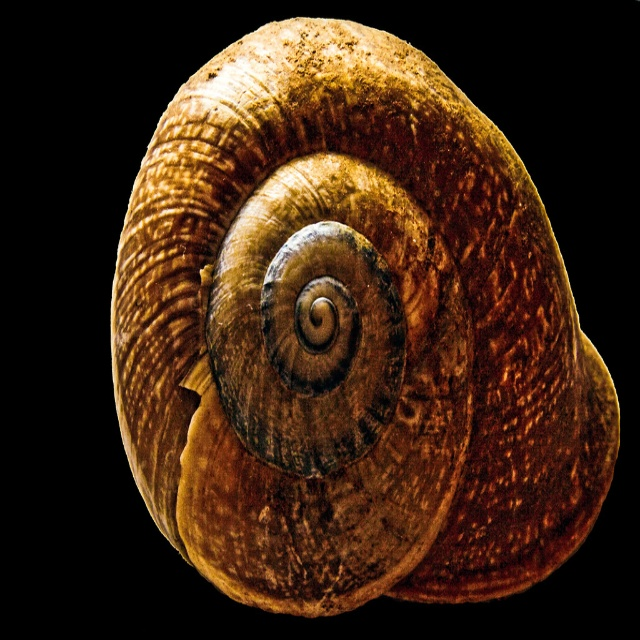Snail: (106, 16, 622, 617)
